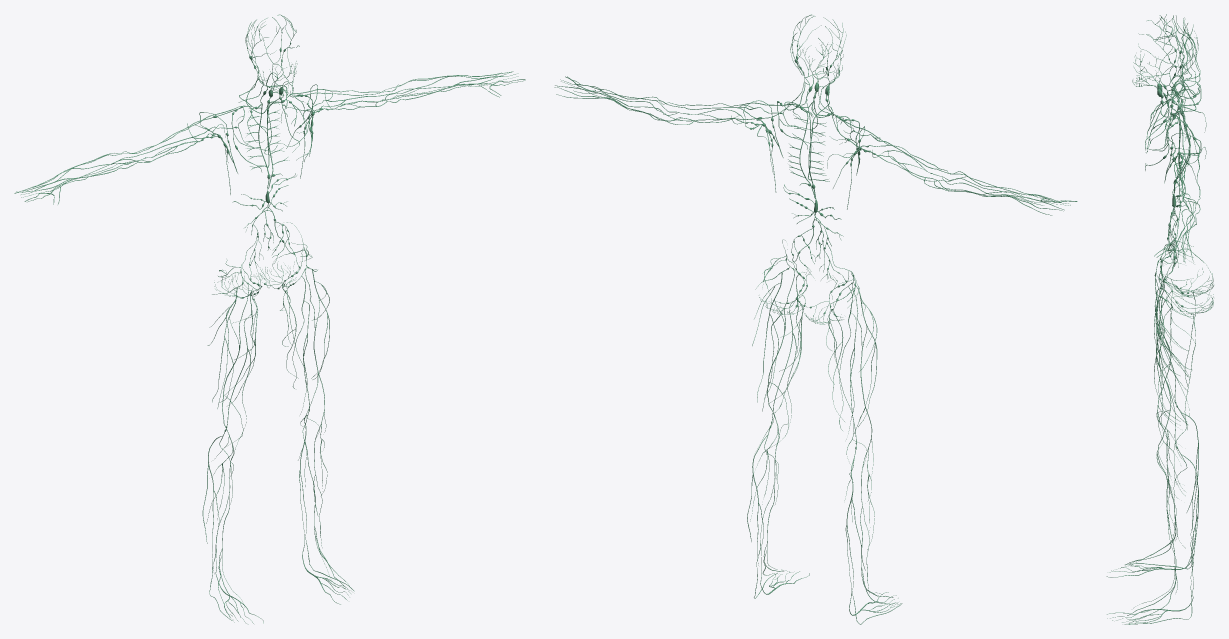
File: LymphSystem.fbx
3 views of the same model, side by side, from view 1: azimuth 30°, elevation 25°; view 2: azimuth 150°, elevation 25°; view 3: azimuth 270°, elevation 25° (orthographic). The views are drawn at different scales.
Parts seen in each view (by area): view 1: FemaleLymphSystem; view 2: FemaleLymphSystem; view 3: FemaleLymphSystem.
Boxes of the visible parts, <box> form: FemaleLymphSystem: <box>14,14,525,624</box>; FemaleLymphSystem: <box>554,14,1077,624</box>; FemaleLymphSystem: <box>1106,14,1213,624</box>.
Bounding box in the file's own units: 134 × 147 × 24.97.
